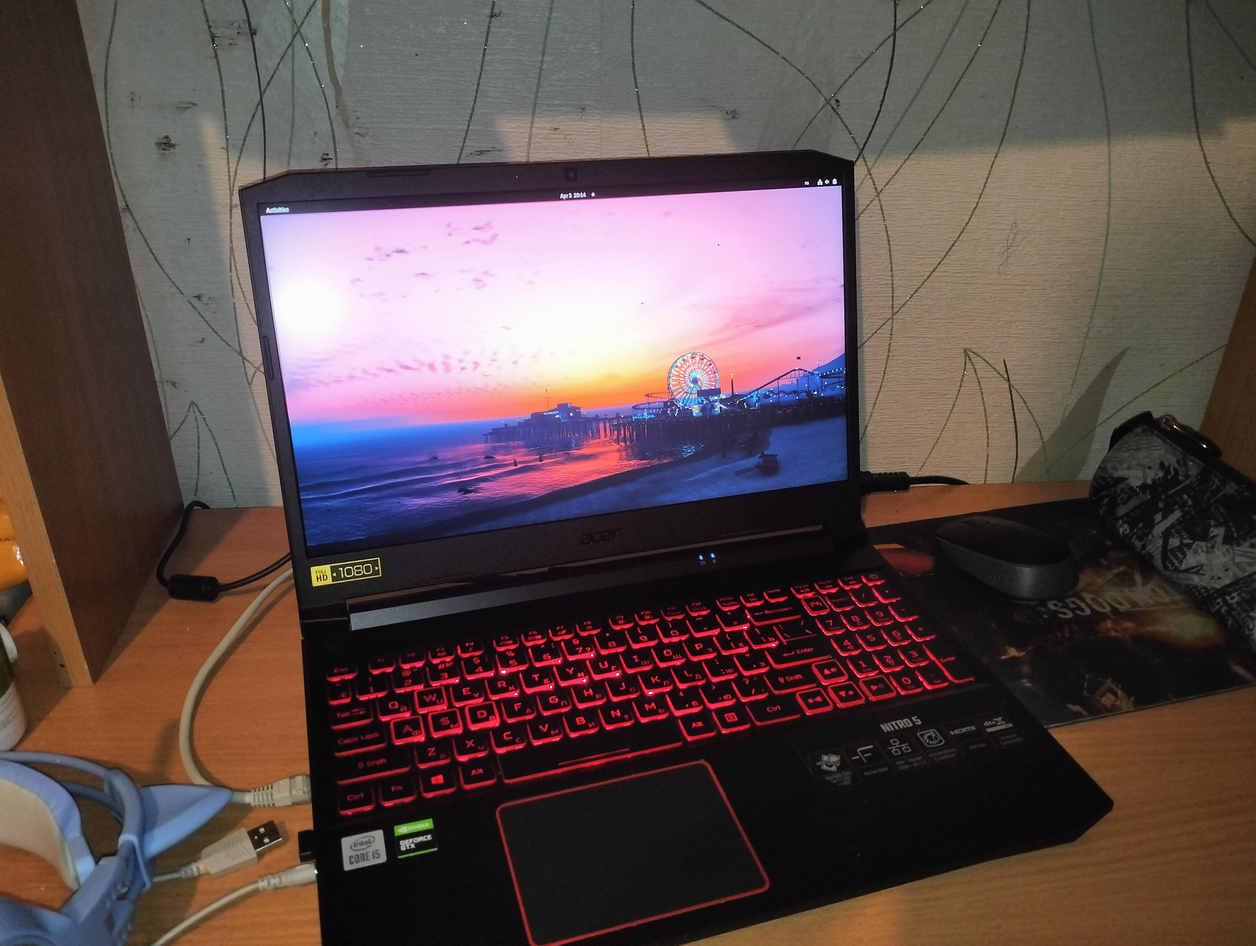monitor: (234, 145, 868, 617)
